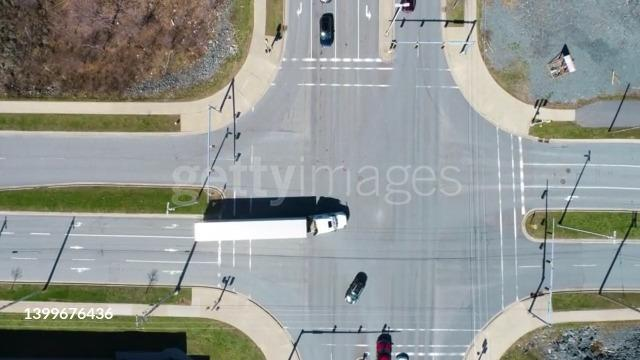car: (341, 271, 369, 307), (318, 12, 336, 46), (374, 334, 392, 360), (396, 354, 408, 360)
truck: (192, 208, 350, 242)
